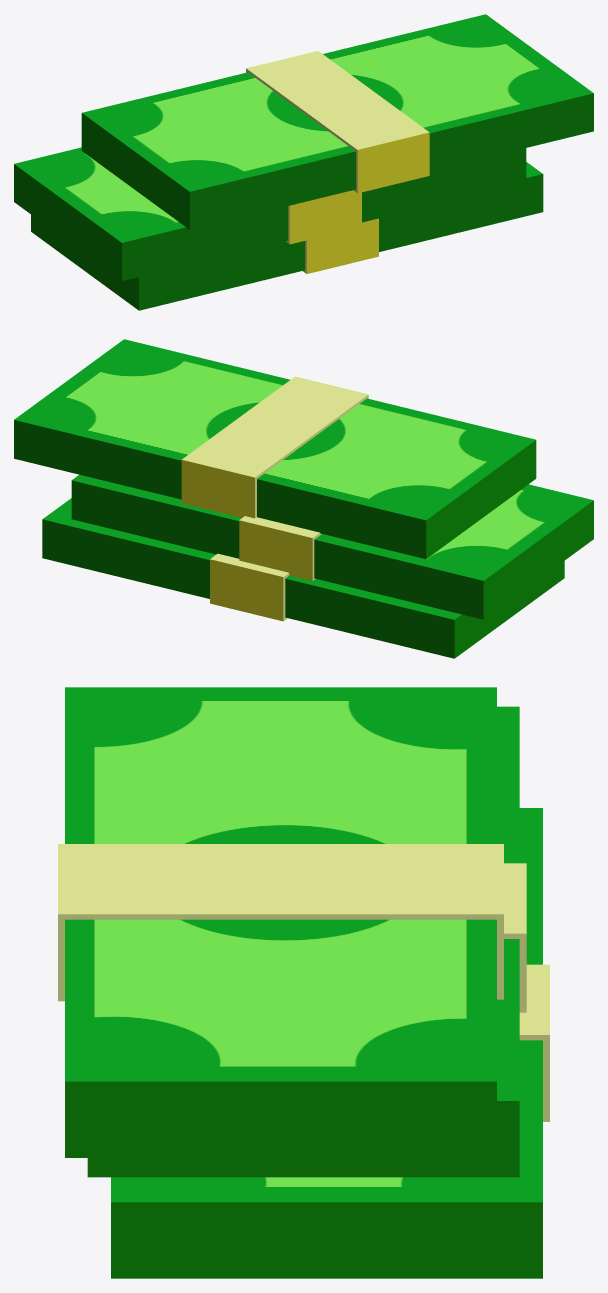
File: Dolars.fbx
3 renders of one model, top to bottom at view 1: azimuth 30°, elevation 25°; view 2: azimuth 150°, elevation 25°; view 3: azimuth 270°, elevation 25°, orthographic. The views are drawn at different scales.
Visible parts, largest first — view 1: Dolars; view 2: Dolars; view 3: Dolars.
Part boxes in pixels (x1,y1,x2,y2): Dolars: (14, 14, 593, 310); Dolars: (14, 339, 593, 658); Dolars: (58, 687, 549, 1278).
Size of the model in its own units: 72 by 18.15 by 32.89.
Materials: 1 (1 with a texture image).
